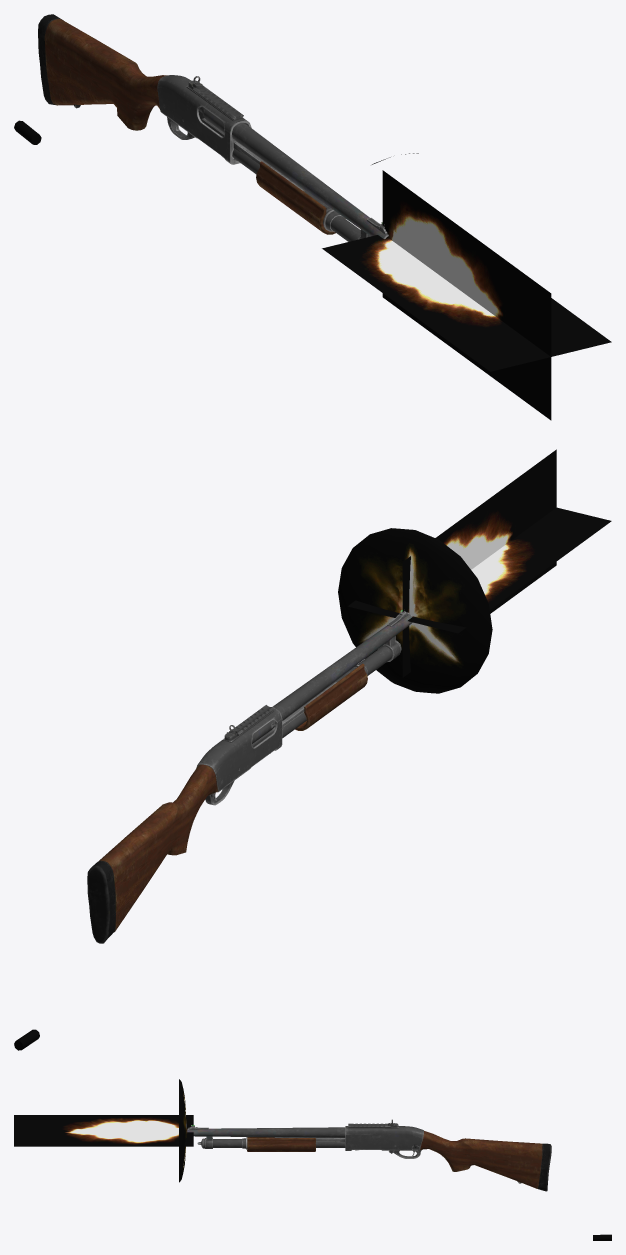
File: Remington.glb
3 renders of one model, top to bottom at view 1: azimuth 30°, elevation 25°; view 2: azimuth 150°, elevation 25°; view 3: azimuth 270°, elevation 25°, orthographic. The views are drawn at different scales.
Visible parts, largest first — view 1: MuzzleFlash, Remington_upd (×2), Remington_upd_mag; view 2: MuzzleFlash, Remington_upd (×2), Remington_upd_mag; view 3: Remington_upd (×2), MuzzleFlash, Remington_upd_mag.
Boxes of the visible parts, x1,y1,x2,y2 form: MuzzleFlash: (322, 153, 611, 420); Remington_upd (×2): (38, 14, 388, 241); Remington_upd_mag: (256, 161, 334, 234); MuzzleFlash: (338, 449, 611, 693); Remington_upd (×2): (87, 610, 412, 943); Remington_upd_mag: (295, 663, 367, 730); Remington_upd (×2): (187, 1119, 551, 1191); MuzzleFlash: (14, 1079, 193, 1182); Remington_upd_mag: (247, 1137, 315, 1151).
Size of the model in its own units: 0.2126 by 0.3372 by 1.22.
Materials: 2 (2 with a texture image).
